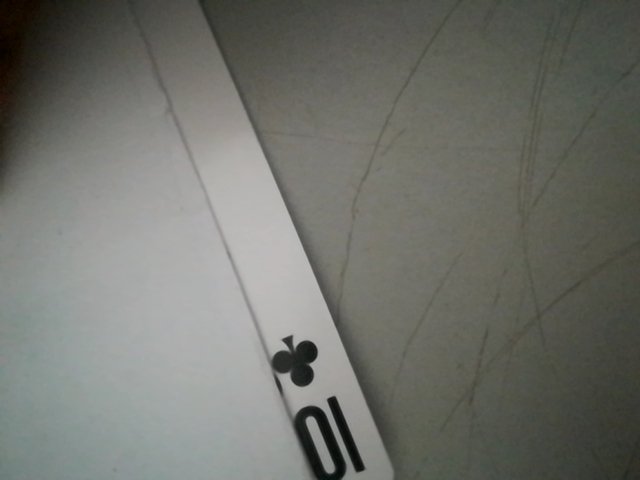mh 10: (262, 323, 390, 480)
